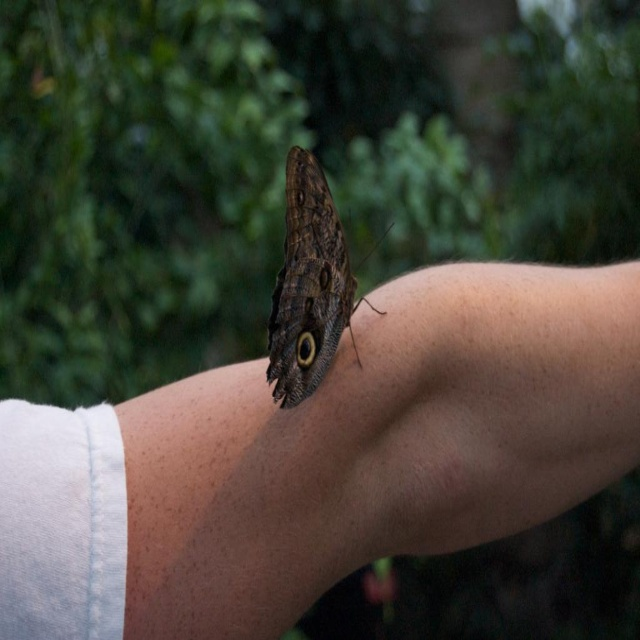Butterfly: (273, 140, 403, 454)
